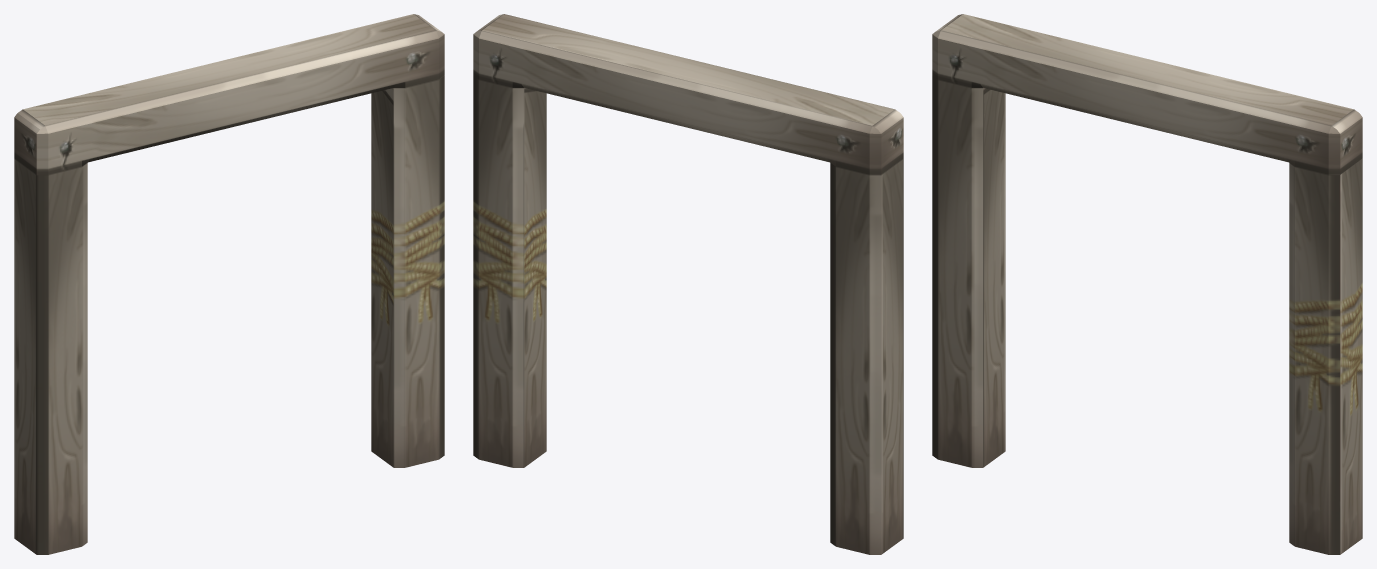
The model's file is barn_doorway.fbx.
3 views of the same model, side by side, from view 1: azimuth 30°, elevation 25°; view 2: azimuth 150°, elevation 25°; view 3: azimuth 330°, elevation 25° (orthographic).
Parts seen in each view (by area): view 1: barn_doorway; view 2: barn_doorway; view 3: barn_doorway.
Boxes of the visible parts, x1,y1,x2,y2 form: barn_doorway: (14,14,444,554); barn_doorway: (473,14,903,554); barn_doorway: (932,14,1362,554).
Bounding box in the file's own units: 5 × 5 × 0.6004.
